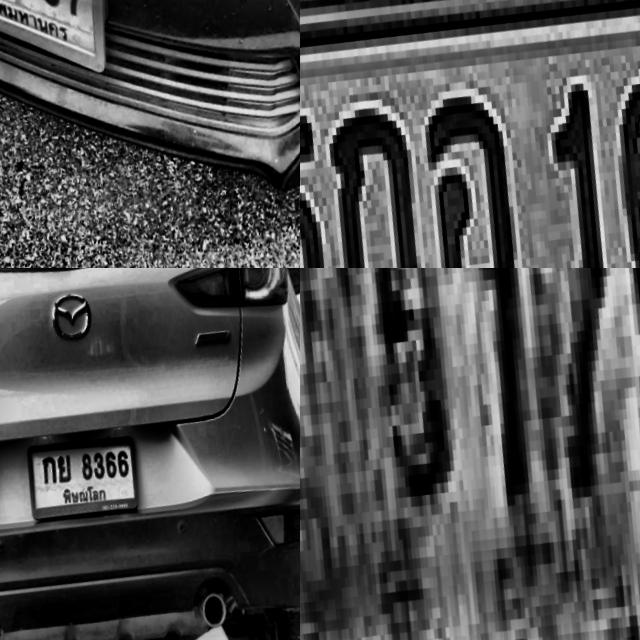license-plate: (300, 268, 640, 640), (300, 0, 640, 268), (0, 0, 139, 104), (26, 421, 155, 523)
